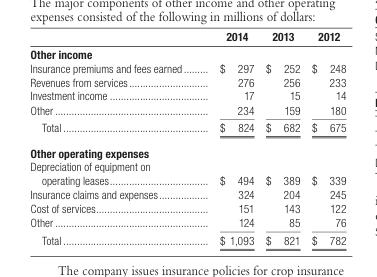table: (29, 29, 345, 246)
table column: (29, 29, 200, 246), (200, 29, 259, 246), (259, 29, 305, 246), (305, 29, 345, 246)
table column header: (29, 29, 345, 44)
table projected row header: (29, 139, 345, 159), (29, 44, 345, 60)
table row: (29, 159, 345, 187), (29, 118, 345, 139), (29, 139, 345, 159), (29, 44, 345, 60), (29, 102, 345, 118), (29, 214, 345, 230), (29, 230, 345, 246), (29, 29, 345, 44), (29, 60, 345, 74), (29, 74, 345, 88), (29, 88, 345, 102), (29, 200, 345, 214), (29, 187, 345, 200)
